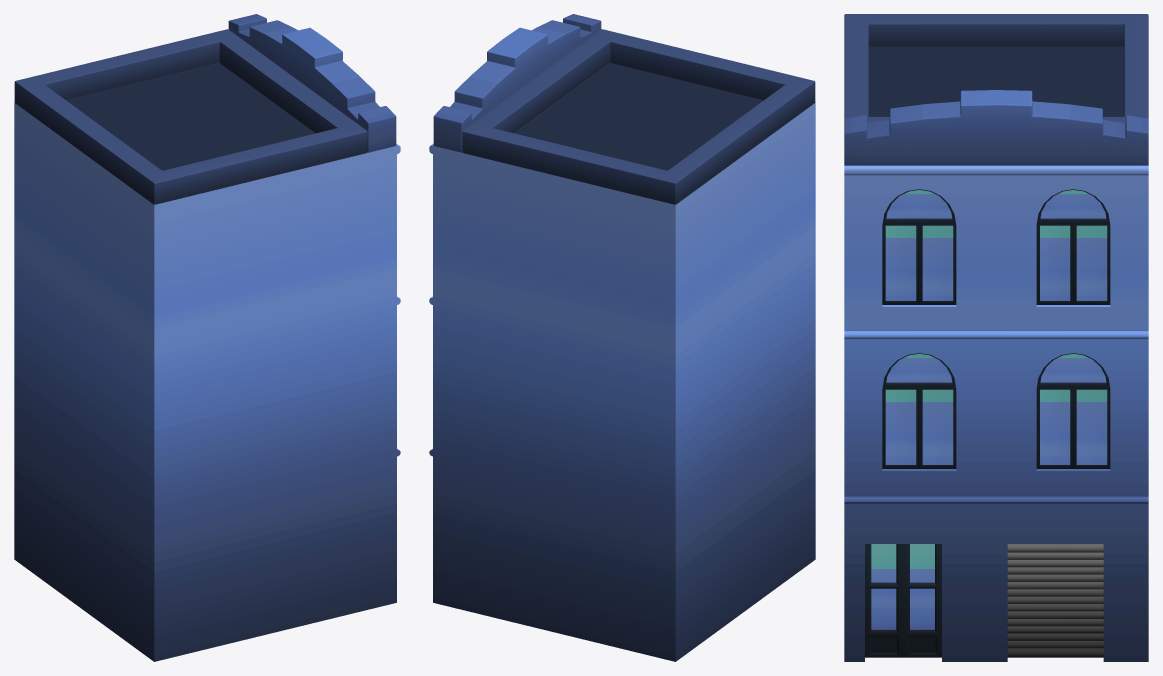
Rendered from SM_Building_Blue.fbx.
3 views of the same model, side by side, from view 1: azimuth 30°, elevation 25°; view 2: azimuth 150°, elevation 25°; view 3: azimuth 270°, elevation 25° (orthographic). The views are drawn at different scales.
Parts seen in each view (by area): view 1: SM_building_Blue; view 2: SM_building_Blue; view 3: SM_building_Blue.
Boxes of the visible parts, x1,y1,x2,y2 form: SM_building_Blue: (14,14,400,661); SM_building_Blue: (429,14,815,661); SM_building_Blue: (844,14,1148,661).
Size of the model in its own units: 508 by 1011 by 500.
1 material, 1 textured.
